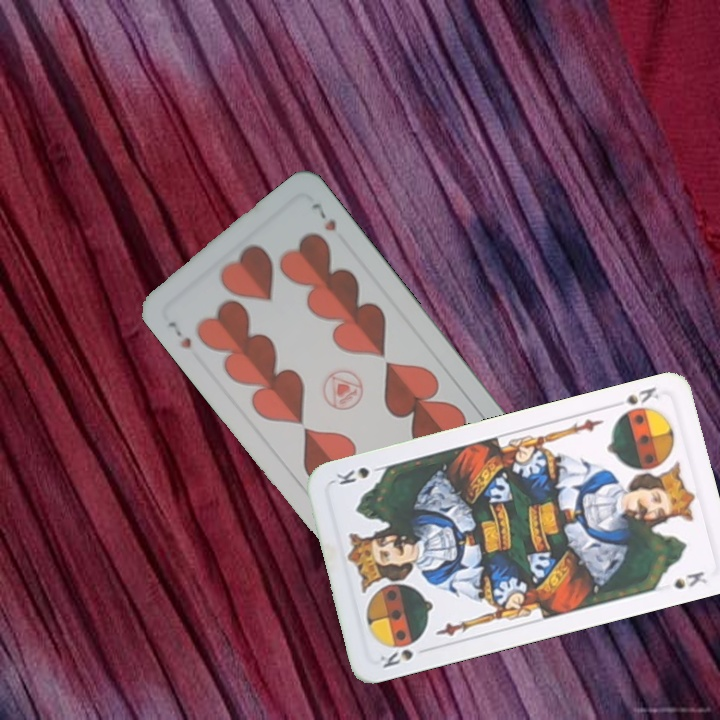H7: (163, 317, 195, 351)
SK: (607, 382, 662, 420), (376, 645, 416, 671)
